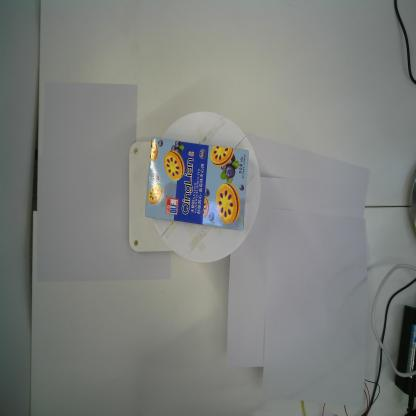Dessert: (144, 136, 249, 231)
